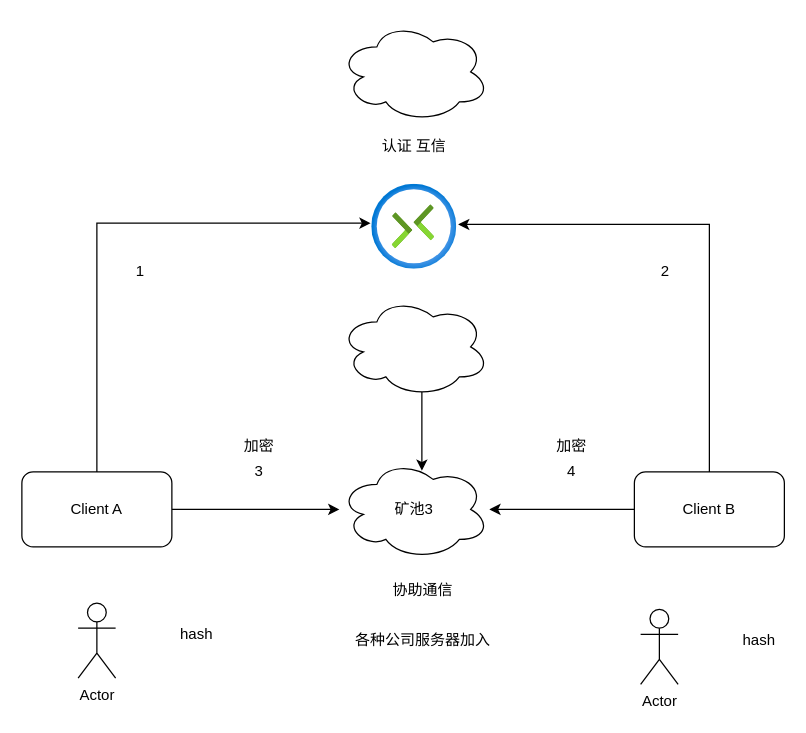
Some shapes in this 806 by 733 pixel diagram are drawn without their labels. The box of each missing label's shape, as (x1, y1, x2, y2) in pixels:
矿池1: (338, 21, 489, 122)
矿池2: (338, 296, 489, 397)
